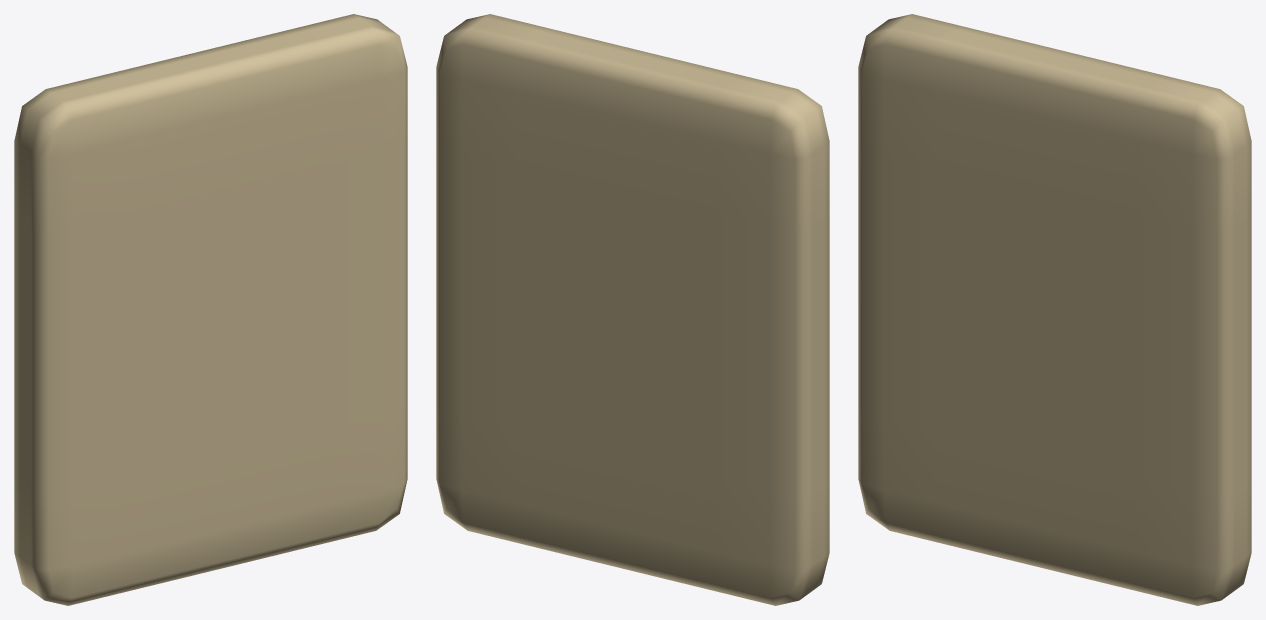
File: TileSlab.fbx
3 renders of one model, left to right at view 1: azimuth 30°, elevation 25°; view 2: azimuth 150°, elevation 25°; view 3: azimuth 330°, elevation 25°, orthographic.
Visible parts, largest first — view 1: pCube1; view 2: pCube1; view 3: pCube1.
Boxes of the visible parts, bbox=[...] form: pCube1: bbox=[14, 14, 407, 605]; pCube1: bbox=[436, 14, 829, 605]; pCube1: bbox=[858, 14, 1251, 605].
Bounding box in the file's own units: 1 × 1.29 × 0.1576.
